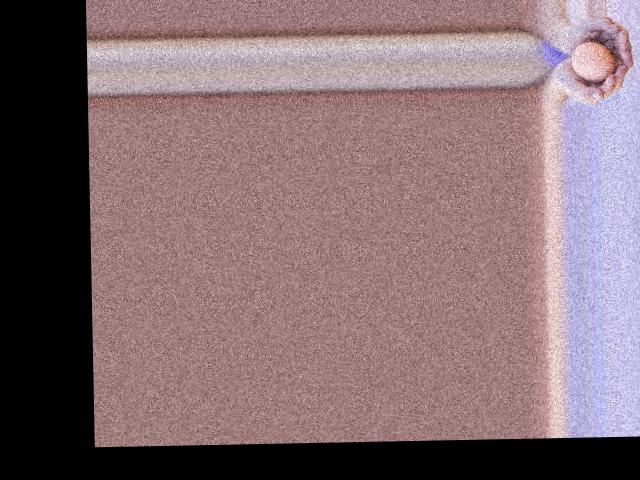egg: (570, 40, 615, 81)
